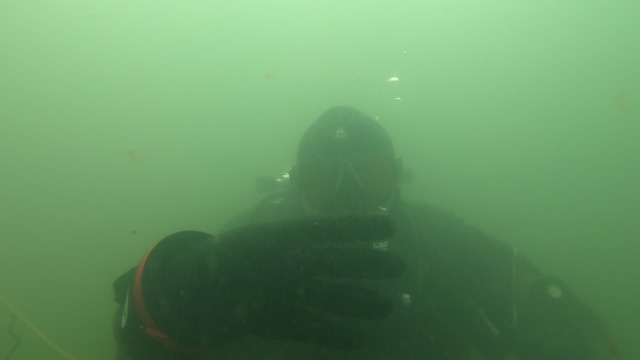Diver: (82, 80, 602, 356)
Hand: (127, 215, 433, 341)
Head: (273, 102, 418, 264)
